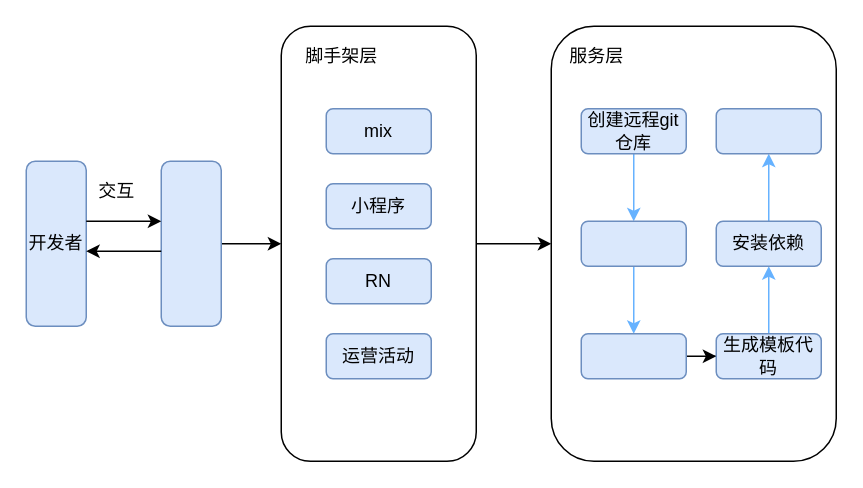
Image size: 863x488. Some labels were removed from this diagram. The box of each missing label's shape, as (x1, y1, x2, y2) in pixels:
cli: (160, 160, 221, 326)
授予开发权限: (580, 220, 686, 266)
自动写入所选工具: (580, 332, 686, 379)
自动提交生成代码: (715, 107, 821, 154)
